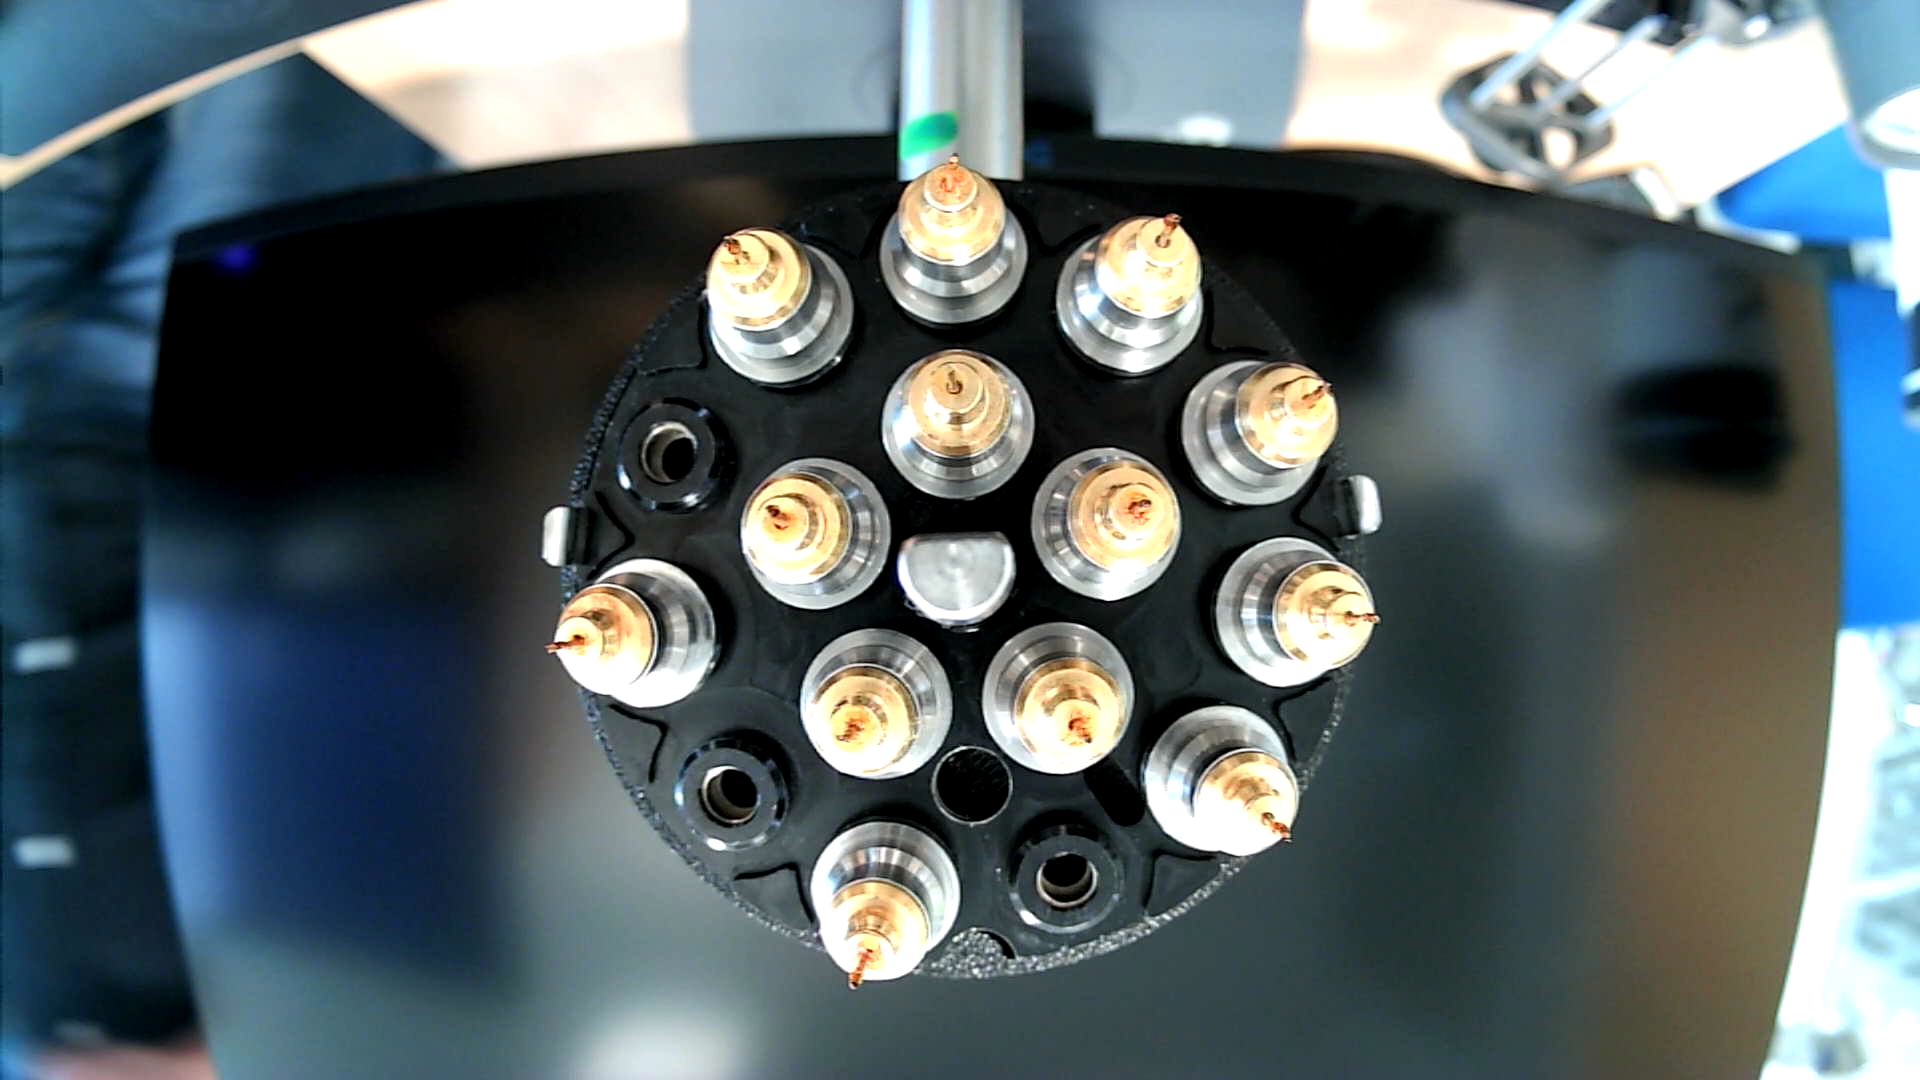empty: (1000, 812, 1129, 942), (670, 731, 799, 857), (611, 396, 741, 520)
hole: (928, 742, 1011, 827)
pin: (541, 553, 725, 711), (807, 814, 963, 992), (1205, 533, 1377, 690), (880, 153, 1033, 328), (1055, 208, 1207, 380), (703, 222, 855, 392), (1139, 702, 1300, 861), (796, 625, 956, 782), (877, 345, 1036, 502), (1029, 446, 1183, 605), (1178, 359, 1337, 513), (977, 621, 1133, 778), (738, 455, 894, 611)
rod: (894, 527, 1021, 632)
